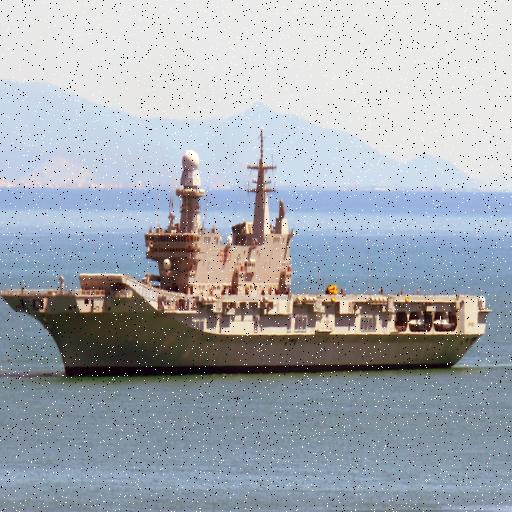Portanaves: (1, 118, 503, 383)
